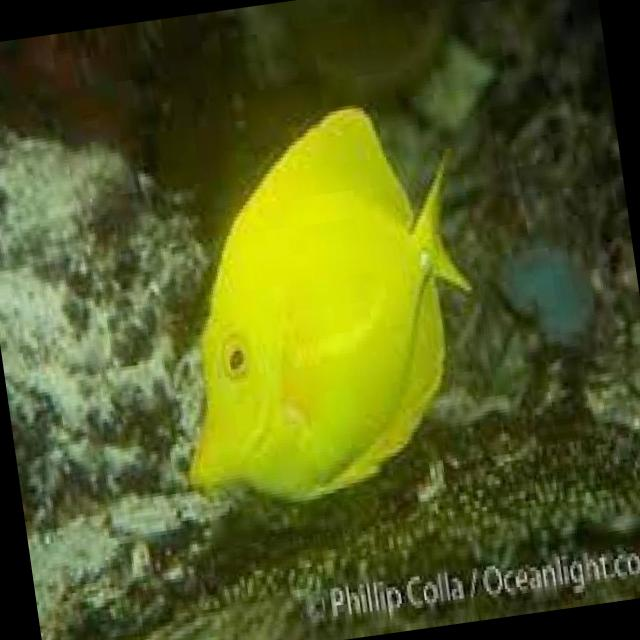TangFish: (138, 84, 505, 518)
